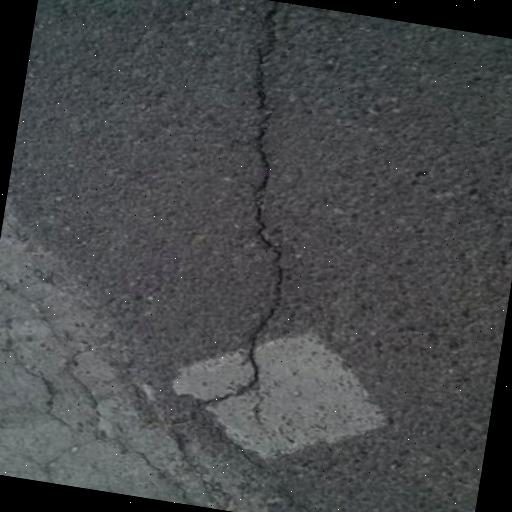spalling: (157, 8, 300, 435)
